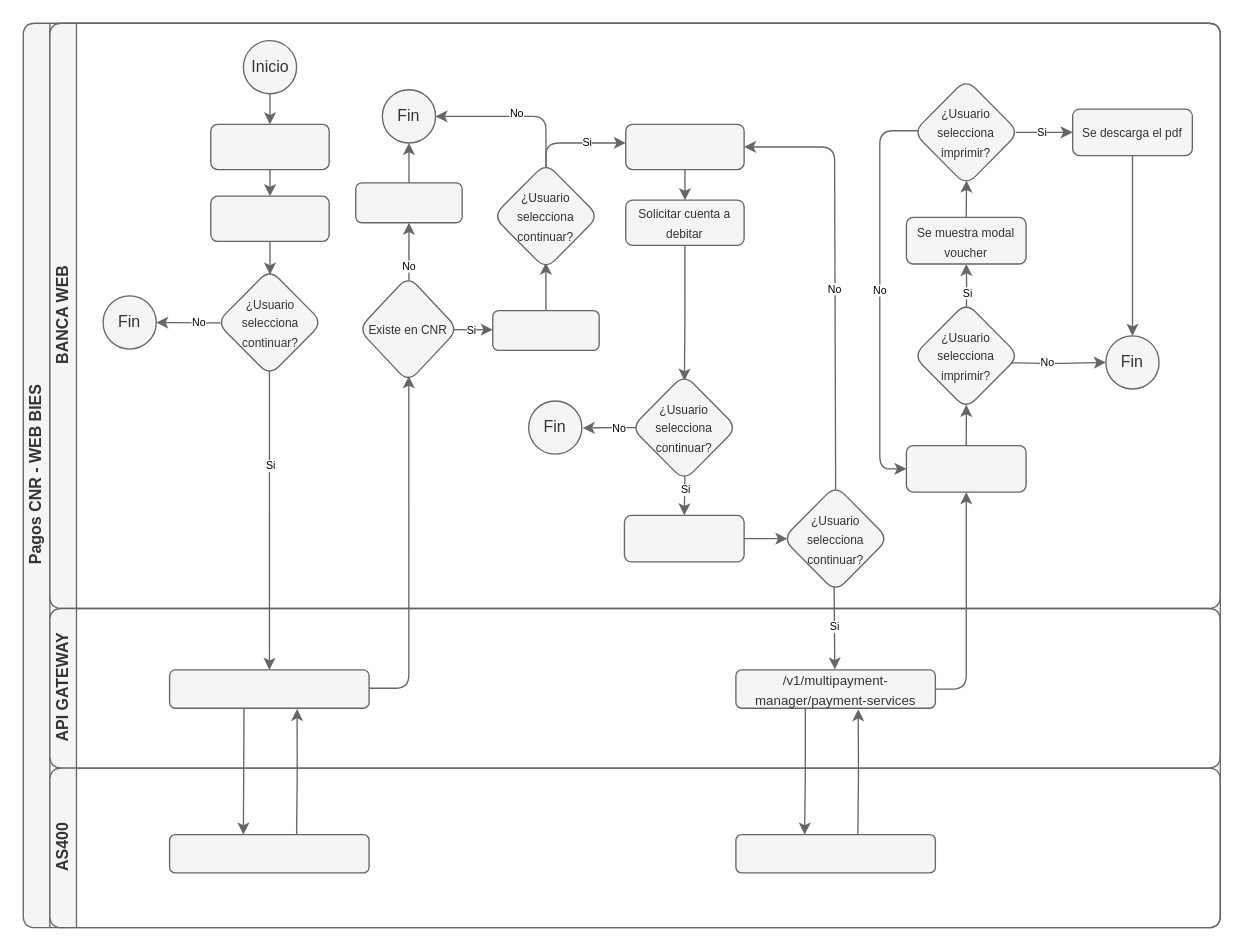
Some shapes in this 1244 by 951 pixel diagram are drawn without their labels. Here are the shapes that lost their labels. From the top down, the centre of each, then its label:
(269,146): Solicitar tipo de documento
(684,146): Solicitar monto a pagar
(269,218): Solicitar número de documenro
(408,202): Se muestra pantalla con error
(545,329): Se muestra pantalla exitosa
(965,468): Se muestra pantalla voucher
(683,538): Se muestra pantalla de confirmación
(268,688): /v1/multipayment-manager/balance-inquiry
(268,853): mpg-ccnspg
(835,853): mpg-cpago
